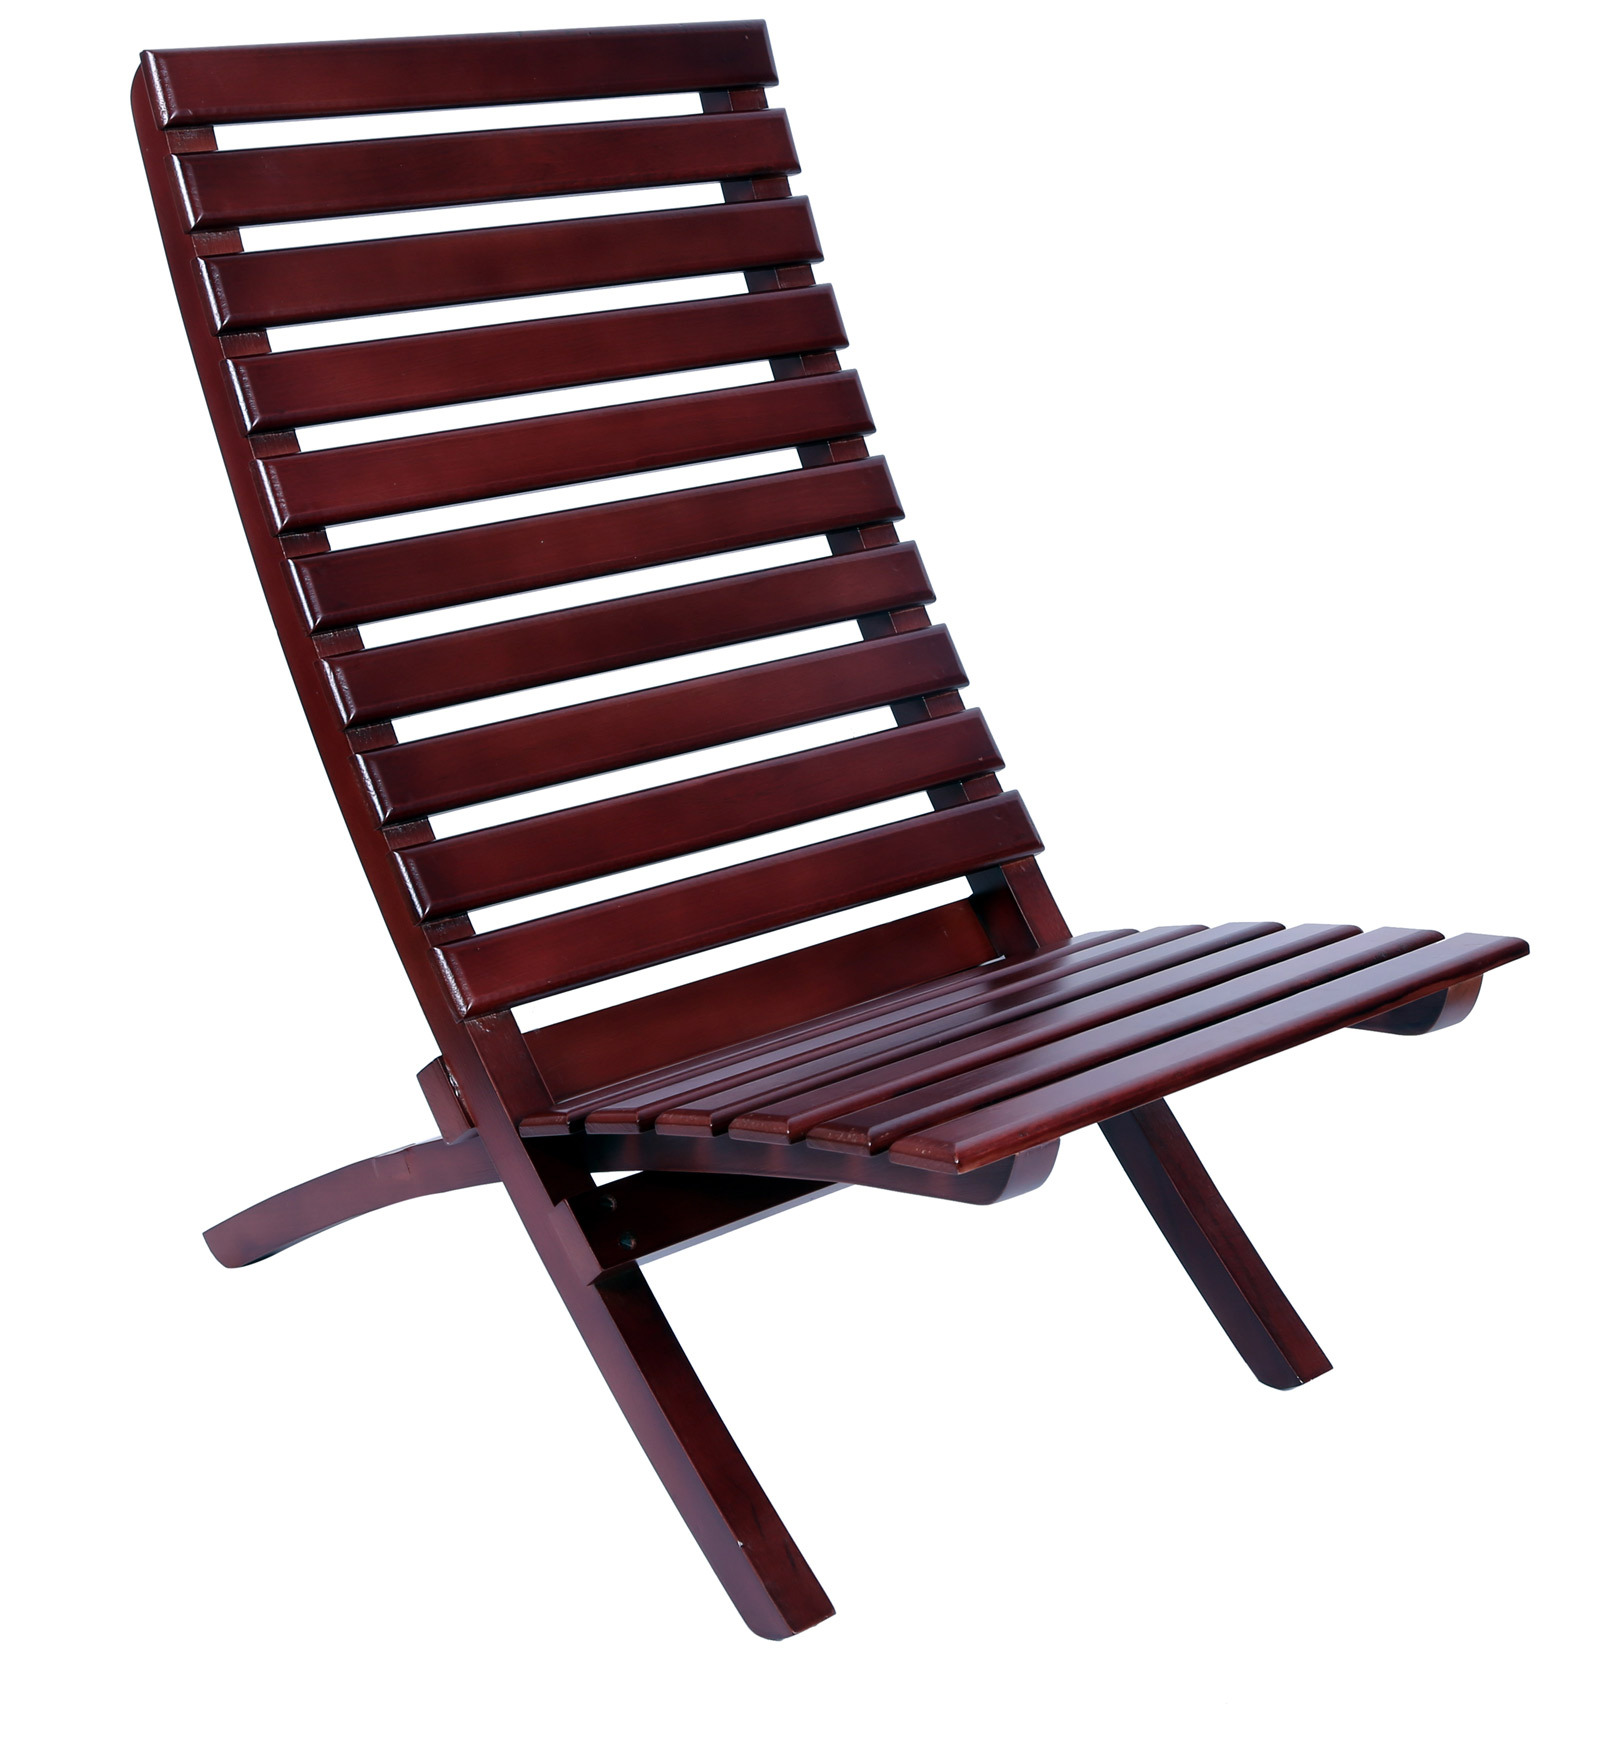Foldable Chair in Brown Colour by ClasiCraft: (101, 12, 1542, 1706)
